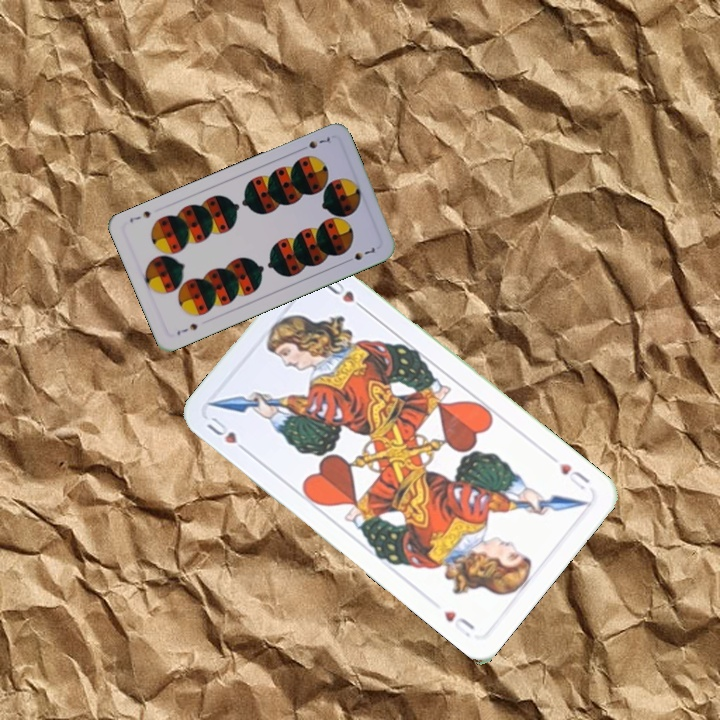HU: (202, 412, 252, 457), (555, 459, 592, 493)
S7: (295, 132, 333, 154), (173, 319, 200, 338)
